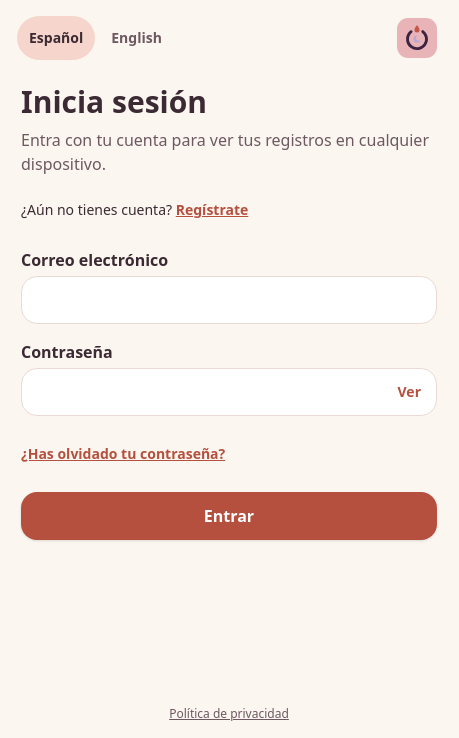
Test case: Inicio de sesión › con datos incorrectos lo avisa
This screenshot has width=459, height=738.
In the field labelled "Correo electrónico": (229, 300) [21,276,437,324], type "ana@correo.com"
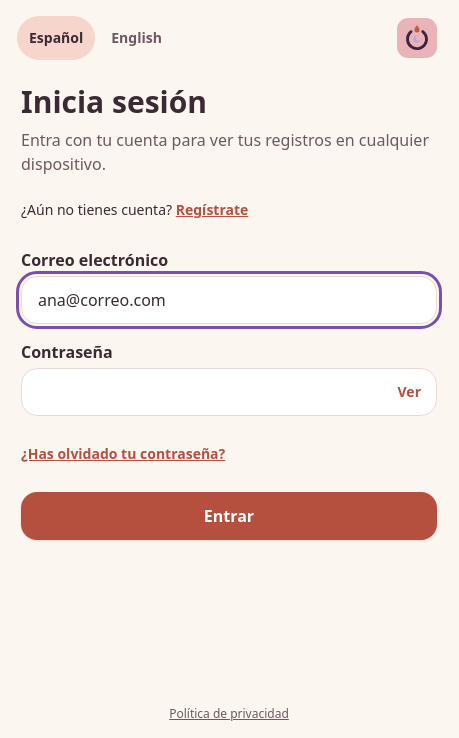
In the password field labelled "Contraseña": (229, 392) [21,368,437,416], type "mal"
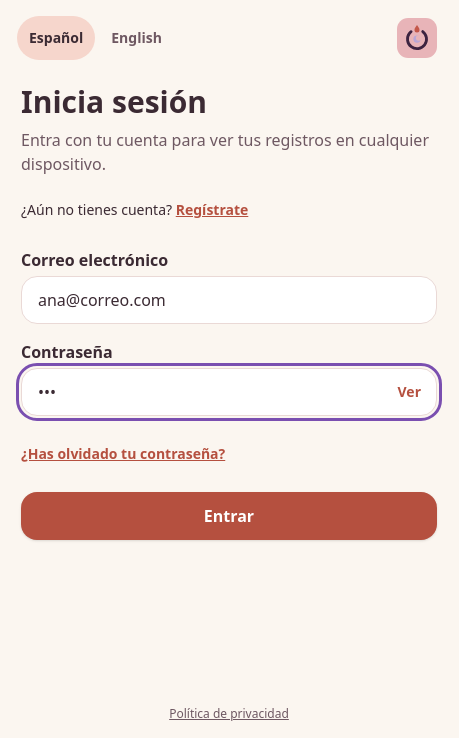
Click the button "Entrar": (229, 516) [21,492,437,540]
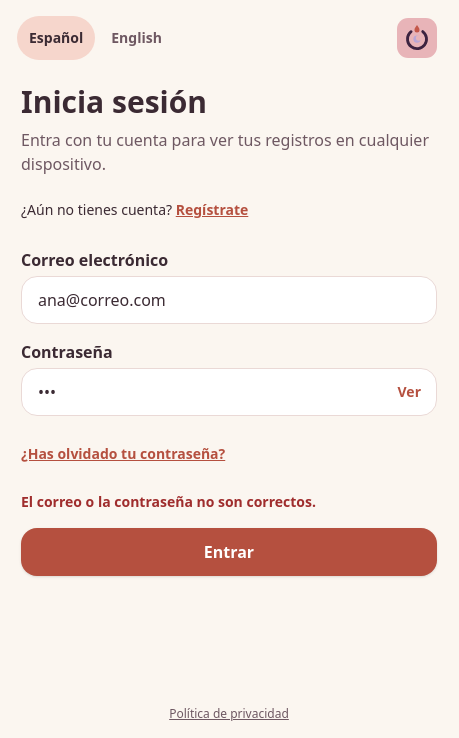
Expected: the message reads "El correo o la contraseña no son correctos.", [21,492,316,511]
